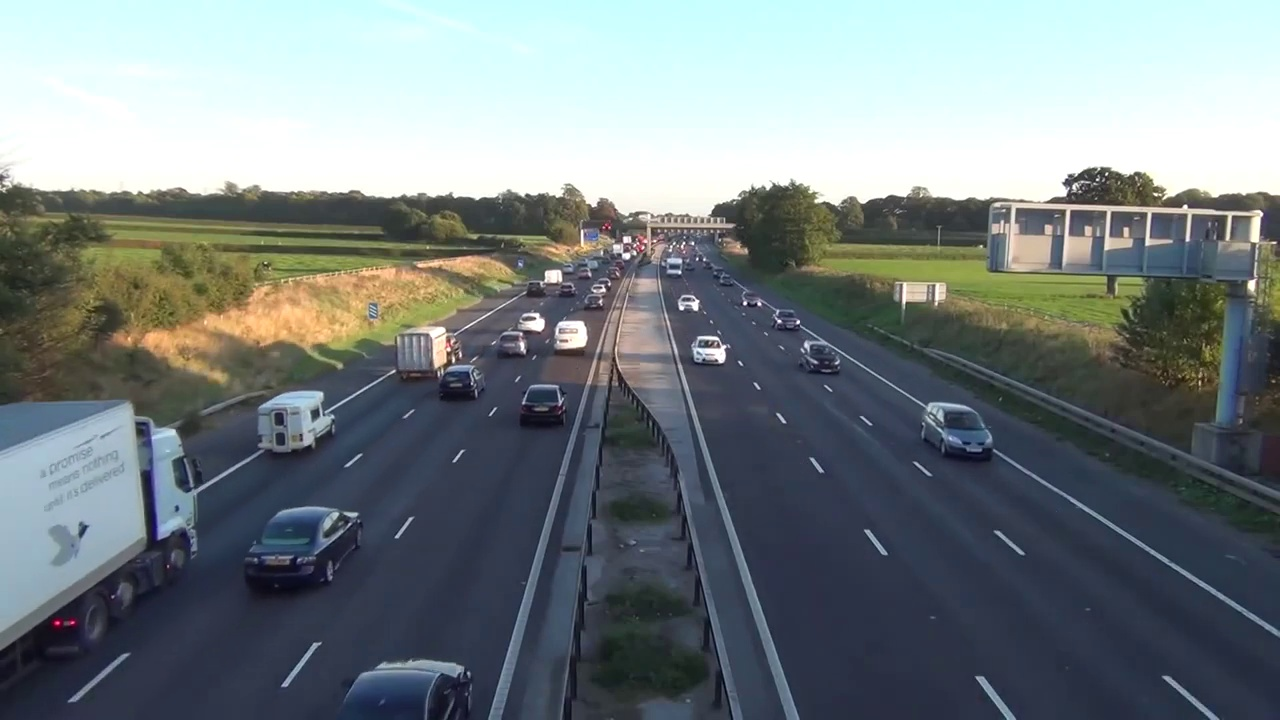bus: (244, 503, 364, 593), (338, 657, 474, 720), (254, 389, 337, 452), (917, 402, 994, 461), (394, 326, 463, 376), (518, 382, 567, 425), (796, 340, 841, 376), (439, 364, 483, 400), (553, 320, 589, 351), (690, 335, 727, 364), (496, 332, 528, 356), (770, 308, 801, 331), (517, 312, 545, 332), (677, 295, 702, 312), (740, 291, 762, 308)
car: (0, 401, 202, 695)
